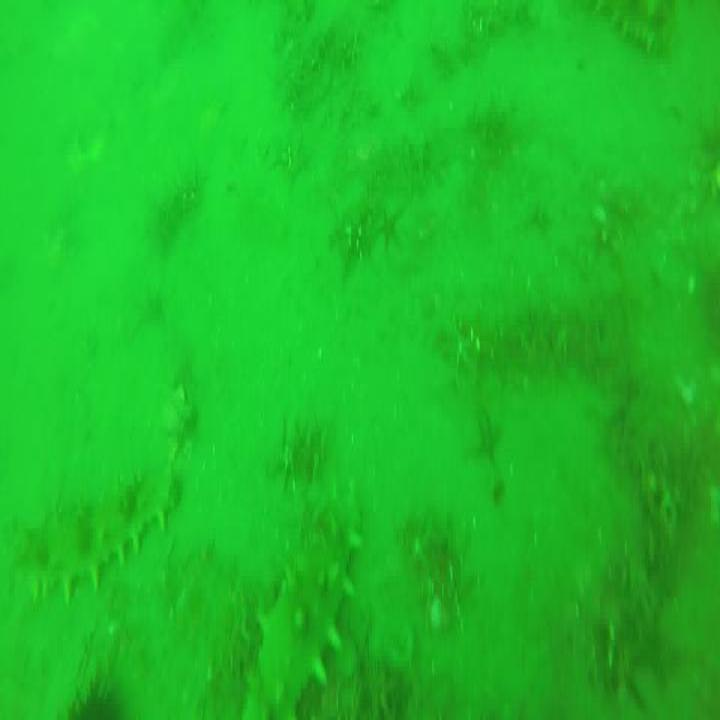holothurian: (242, 487, 371, 720), (16, 473, 180, 601), (579, 0, 673, 57)
